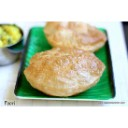poori: (27, 49, 103, 94), (45, 20, 105, 49)
